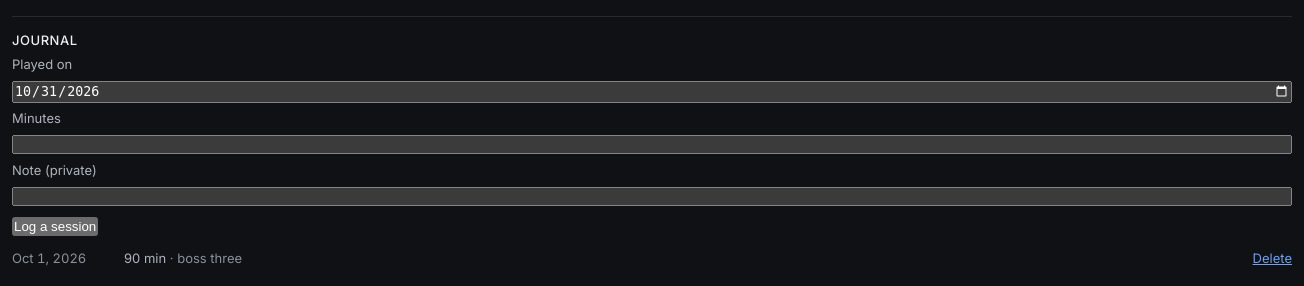
Test: PlayJournal › deletes a session
Click the button with aria-label "Delete the session on Oct 1, 2026" at (1272,259), box [1253,248,1292,269]
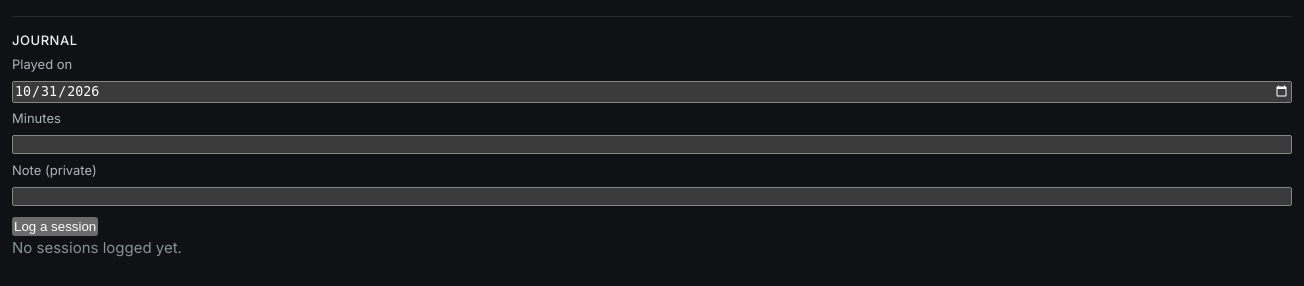
Check: the text "No sessions logged yet." is shown, box [12,238,182,257]
